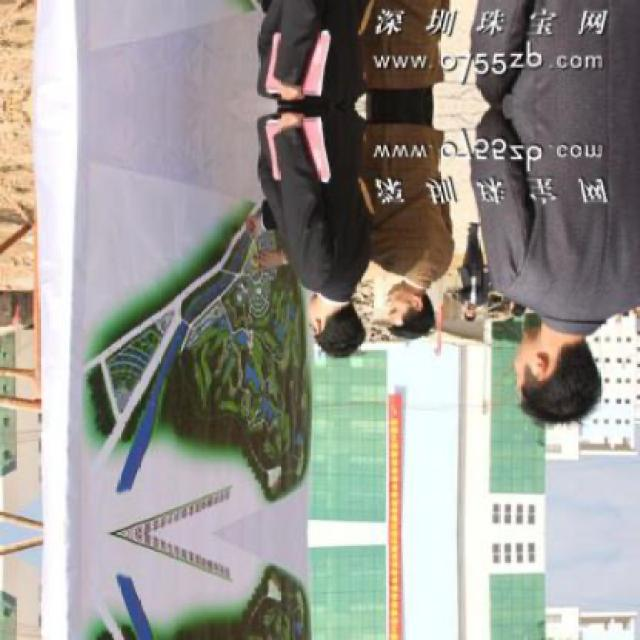sin casco: (481, 315, 640, 429), (233, 298, 369, 394), (334, 248, 444, 360)
